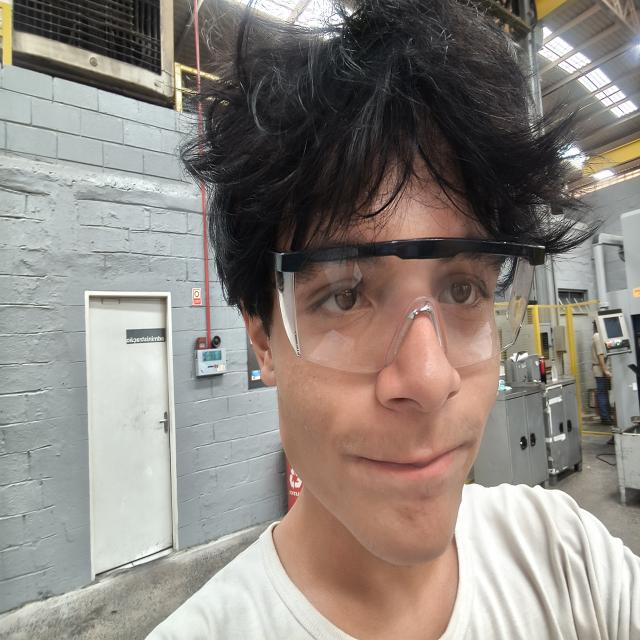oculos-epi: (267, 238, 545, 373)
